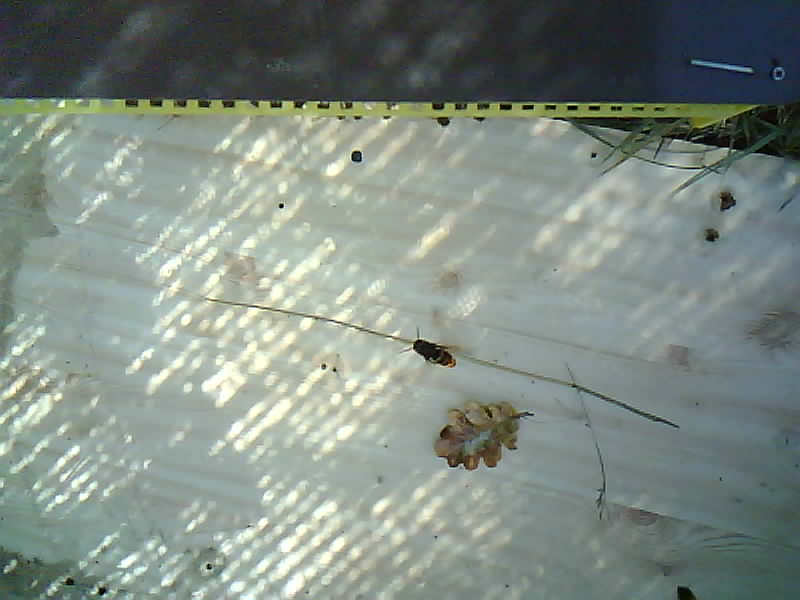hornet: (410, 335, 461, 370)
